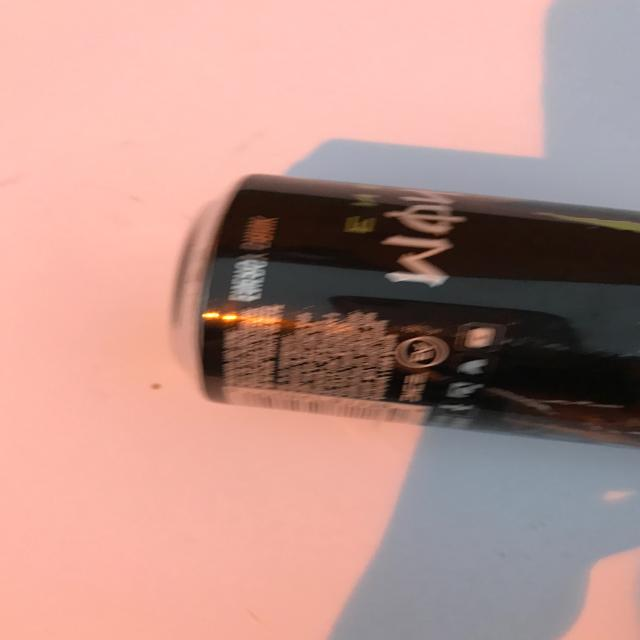metal: (171, 172, 640, 451)
